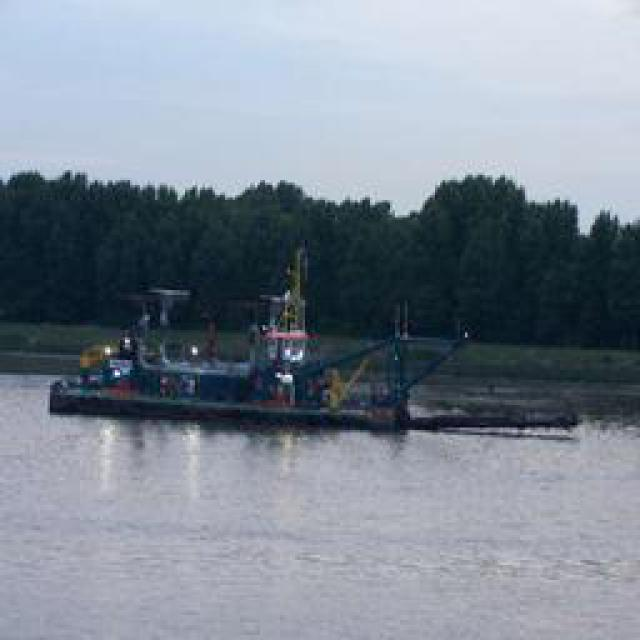Ship: (54, 296, 479, 424)
